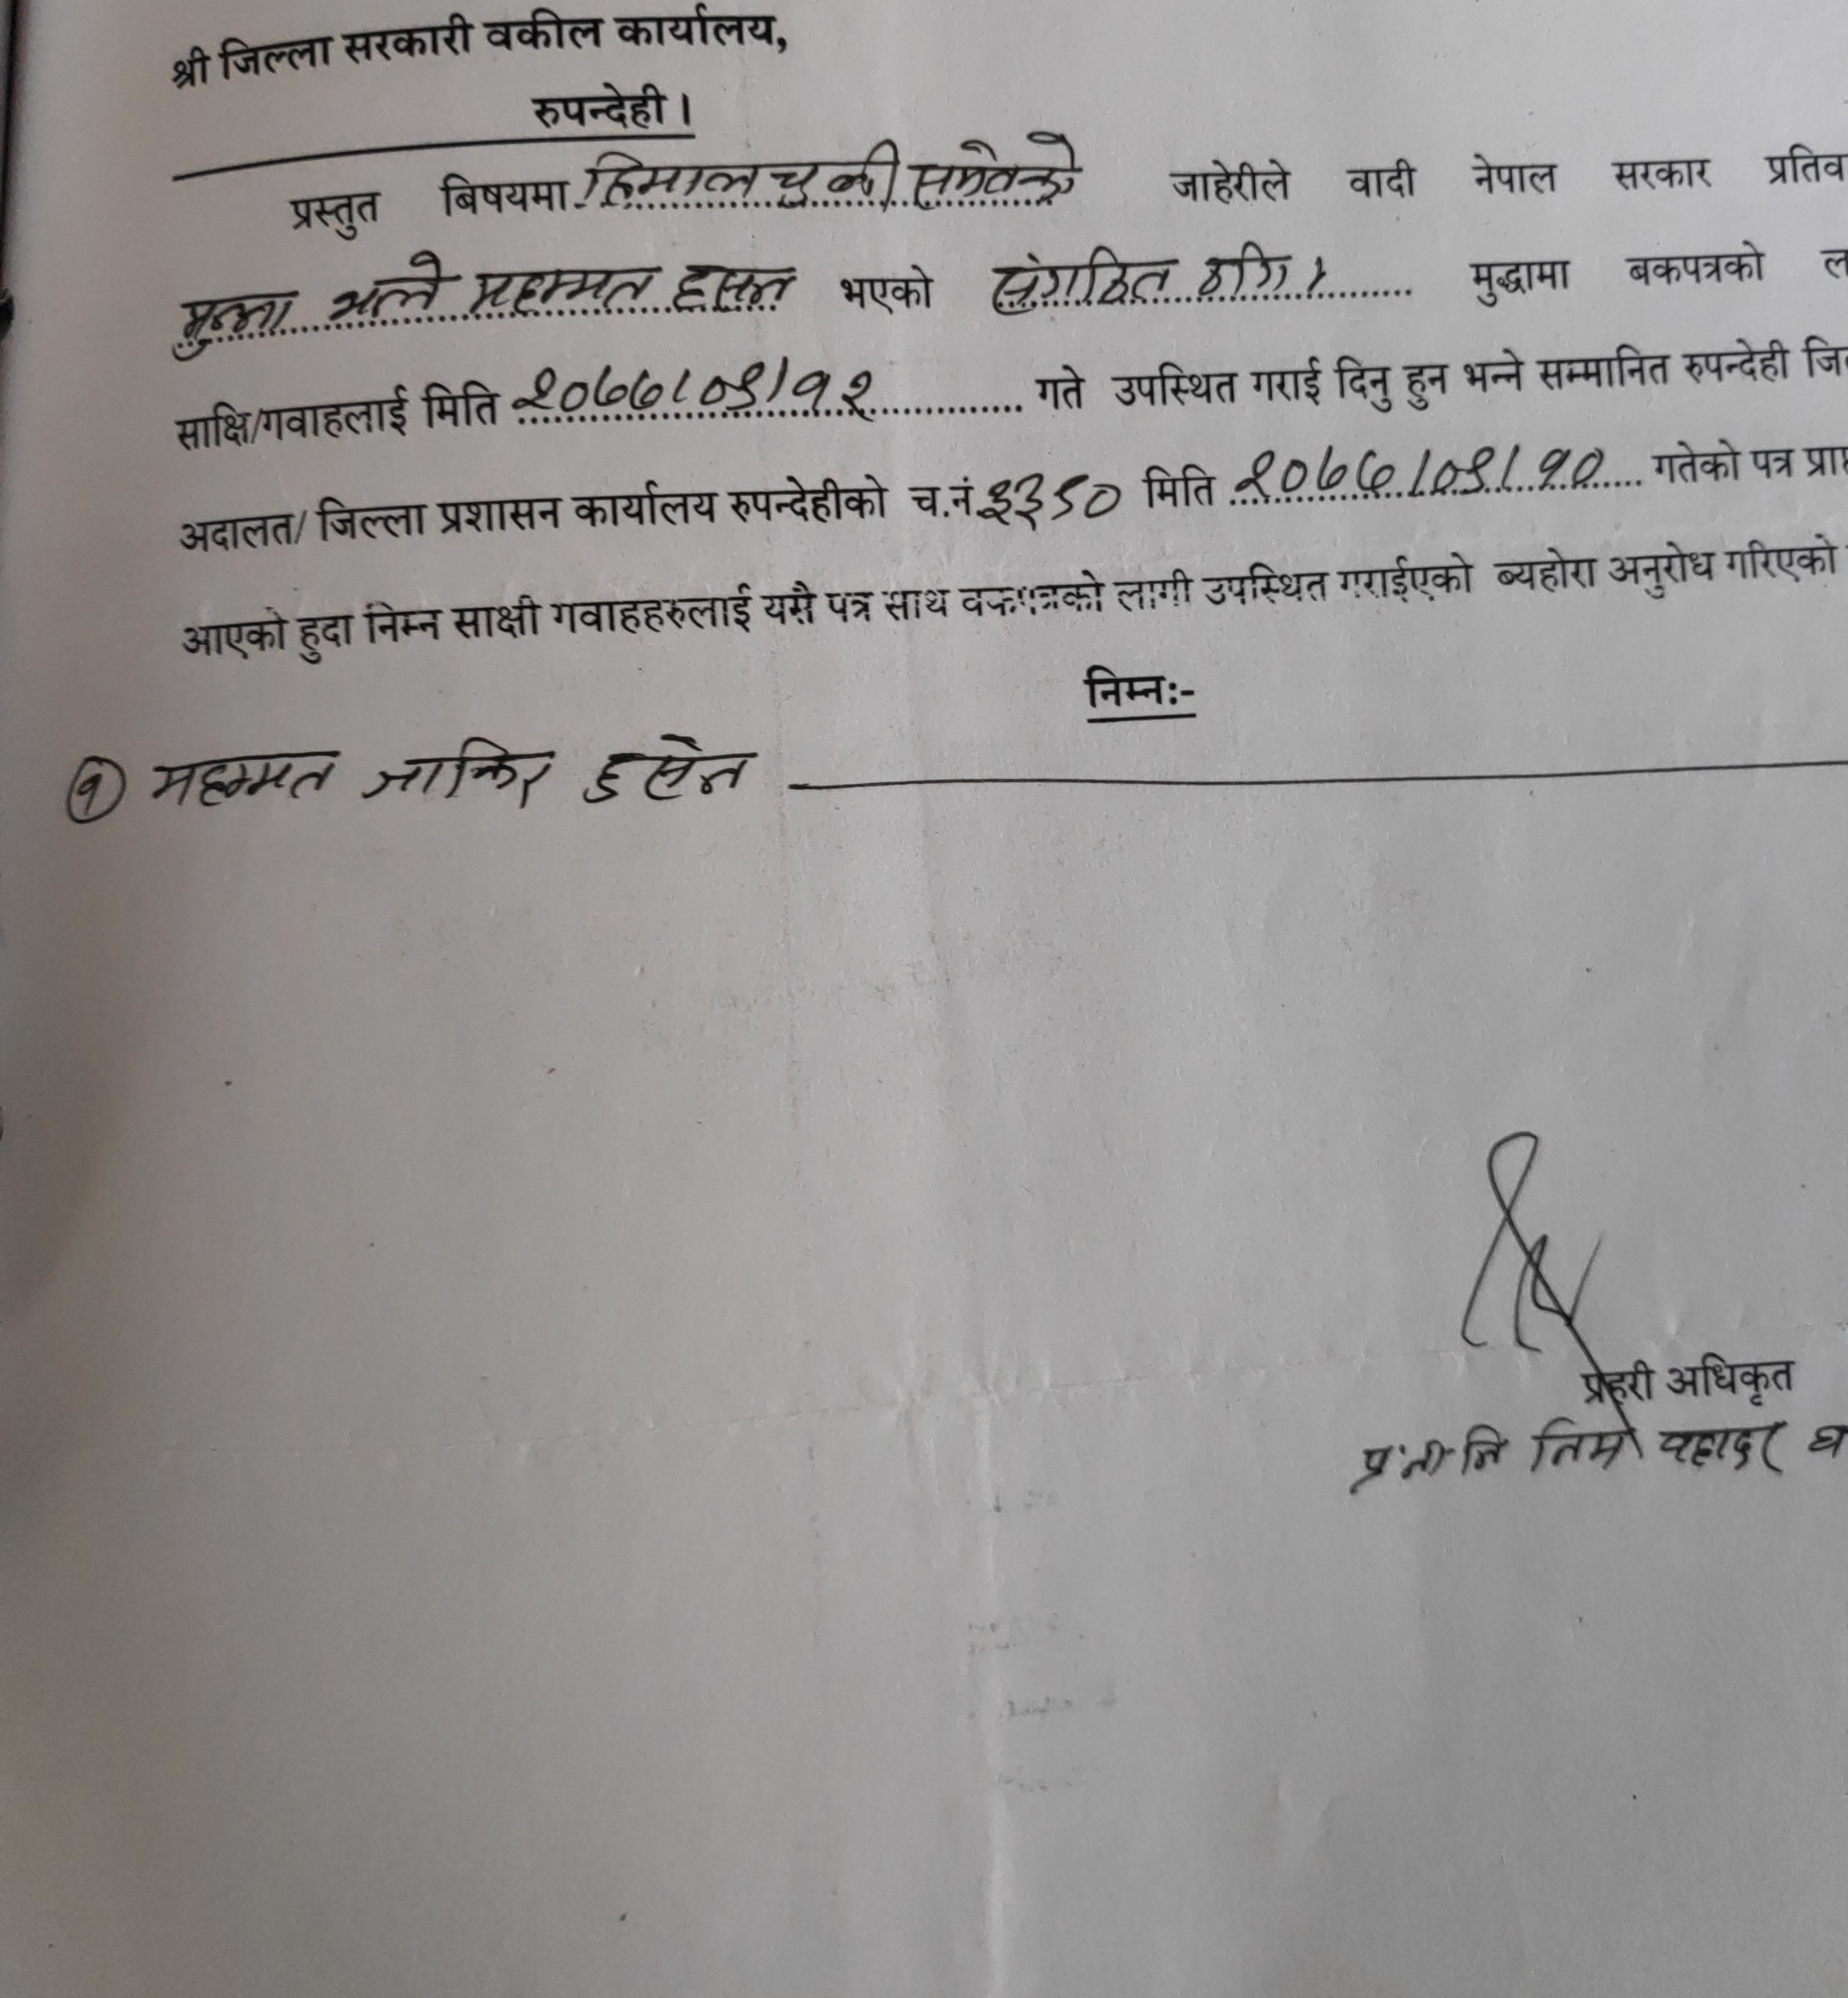text: (585, 139, 903, 221), (508, 359, 879, 428), (1229, 442, 1611, 506), (357, 736, 564, 815), (903, 129, 1081, 211), (585, 729, 753, 811), (987, 242, 1175, 313), (148, 747, 339, 811), (1350, 1422, 1509, 1493), (465, 263, 653, 317), (169, 285, 292, 365), (325, 245, 445, 325), (978, 470, 1124, 531), (1651, 1415, 1789, 1478), (1526, 1415, 1629, 1479), (1190, 240, 1295, 301), (668, 261, 793, 312), (73, 769, 104, 818)
